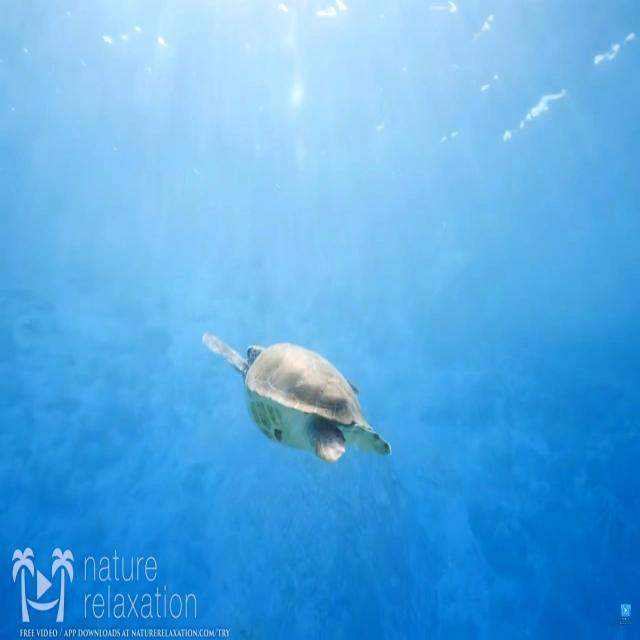Sea turtle: (200, 321, 393, 465)
